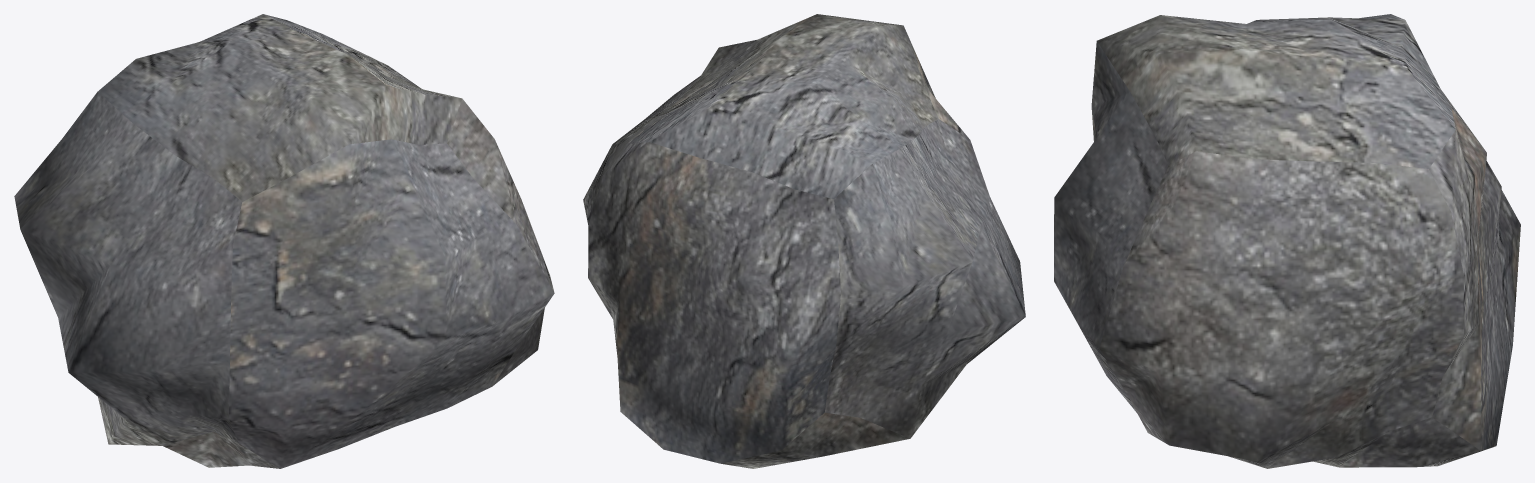
File: japanese_rock_05.FBX
3 views of the same model, side by side, from view 1: azimuth 30°, elevation 25°; view 2: azimuth 150°, elevation 25°; view 3: azimuth 270°, elevation 25° (orthographic). The views are drawn at different scales.
Visible parts, largest first — view 1: rock_05; view 2: rock_05; view 3: rock_05.
Boxes of the visible parts, <box> form: rock_05: <box>14,14,554,468</box>; rock_05: <box>583,14,1025,468</box>; rock_05: <box>1054,14,1520,468</box>.
Bounding box in the file's own units: 121 × 104 × 106.
